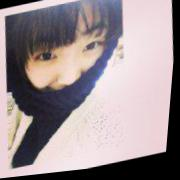WRONG: (17, 9, 123, 122)
